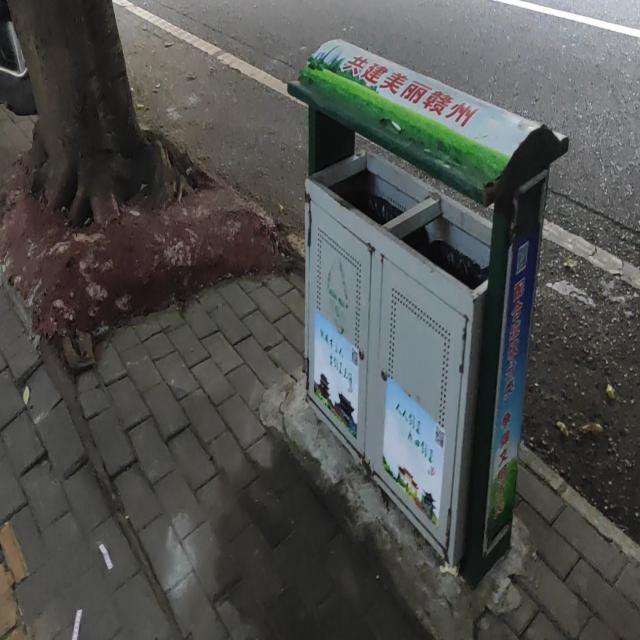ash bin: (286, 38, 570, 596)
